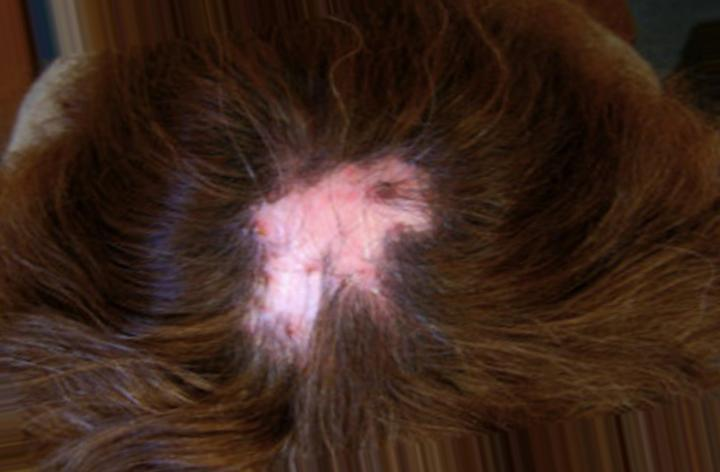Folliculitis: (225, 135, 431, 369)
